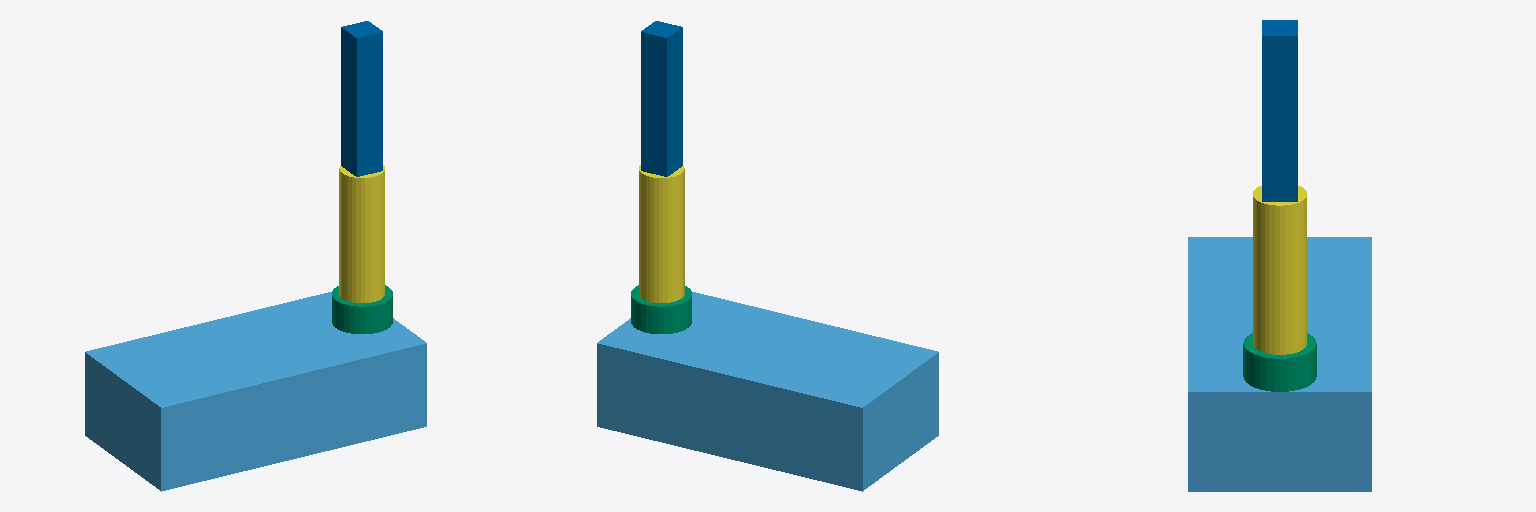
URDF robot description (dummy):
<?xml version="1.0" encoding="utf-8"?>

<robot name="dummy">

  <link name="world"/>

  <joint name="world_joint" type="fixed">
    <parent link="world"/>
    <child link="base"/>
    <origin xyz="0 0 0" rqy="0 0 0"/>
  </joint>

  <link name="base">
    <visual>
      <origin xyz="0 0 0.15" rpy="0 0 0"/>
      <geometry>
        <box size="1.0 0.5 0.3"/>
      </geometry>
    </visual>
    
    <collision>
      <origin xyz="0 0 0.15" rpy="0 0 0"/>
      <geometry>
        <box size="1.0 0.5 0.3"/>
      </geometry>
    </collision>
  </link>

  <joint name="SH_ROT" type="revolute">
    <parent link="base"/>
    <child link="shoulder"/>
    <origin xyz="0.4 0 0.3" rpy="0 0 0"/>
    <axis xyz="0 0 1"/>
    <limit effort="100" lower="-1.57" upper="1.57" velocity="10"/>
  </joint>

  <link name="shoulder">
    <visual>
      <origin xyz="0 0 0.05" rpy="0 0 0"/>
      <geometry>
        <cylinder radius="0.1" length="0.1"/>
      </geometry>
    </visual>
    
    <collision>
      <origin xyz="0 0 0.05" rpy="0 0 0"/>
      <geometry>
        <cylinder radius="0.1" length="0.1"/>
      </geometry>
    </collision>
  </link>

  <joint name="SH_FLE" type="revolute">
    <parent link="shoulder"/>
    <child link="upperarm"/>
    <origin xyz="0 0 0.1" rpy="0 0 0"/>
    <axis xyz="0 1 0"/>
    <limit effort="100" lower="-1.57" upper="1.57" velocity="10"/>
  </joint>

  <link name="upperarm">
    <visual>
      <origin xyz="0 0 0.2" rpy="0 0 0"/>
      <geometry>
        <cylinder radius="0.075" length="0.5"/>
      </geometry>
    </visual>
    
    <collision>
      <origin xyz="0 0 0.2" rpy="0 0 0"/>
      <geometry>
        <cylinder radius="0.05" length="0.5"/>
      </geometry>
    </collision>
  </link>

  <joint name="EL_FLE" type="revolute">
    <parent link="upperarm"/>
    <child link="forearm"/>
    <origin xyz="0 0 0.5" rpy="0 0 0"/>
    <axis xyz="0 1 0"/>
    <limit effort="100" lower="-1.57" upper="3.14" velocity="10"/>
  </joint>

  <link name="forearm">
    <visual>
      <origin xyz="0 0 0.2" rpy="0 0 0"/>
      <geometry>
        <box size="0.1 0.1 0.5"/>
      </geometry>
    </visual>
    
    <collision>
      <origin xyz="0 0 0.2" rpy="0 0 0"/>
      <geometry>
        <box size="0.1 0.1 0.5"/>
      </geometry>
    </collision>
  </link>
</robot>

--- Render facts (derived) ---
The picture shows the robot from 3 angles, left to right: view 1: azimuth 30°, elevation 25°; view 2: azimuth 150°, elevation 25°; view 3: azimuth 270°, elevation 25°; orthographic projection.
Model dummy with 5 links and 4 joints (3 revolute, 1 fixed), rooted at world, posed every joint at zero.
Visible links, largest first — view 1: base, forearm, upperarm, shoulder; view 2: base, forearm, upperarm, shoulder; view 3: base, upperarm, forearm, shoulder.
Link boxes in pixels (box(x1,y1,x2,y2)): base: box(85, 292, 426, 491); forearm: box(341, 21, 382, 176); upperarm: box(339, 165, 384, 302); shoulder: box(332, 285, 392, 333); base: box(597, 292, 938, 491); forearm: box(641, 21, 682, 176); upperarm: box(639, 165, 684, 302); shoulder: box(631, 285, 691, 333); base: box(1188, 237, 1371, 491); upperarm: box(1253, 186, 1306, 354); forearm: box(1262, 20, 1297, 201); shoulder: box(1243, 333, 1316, 391).
Size in the robot's own frame: 1 by 0.5 by 1.35 metres.
Geometry: primitives only (box / cylinder / sphere), no mesh files.